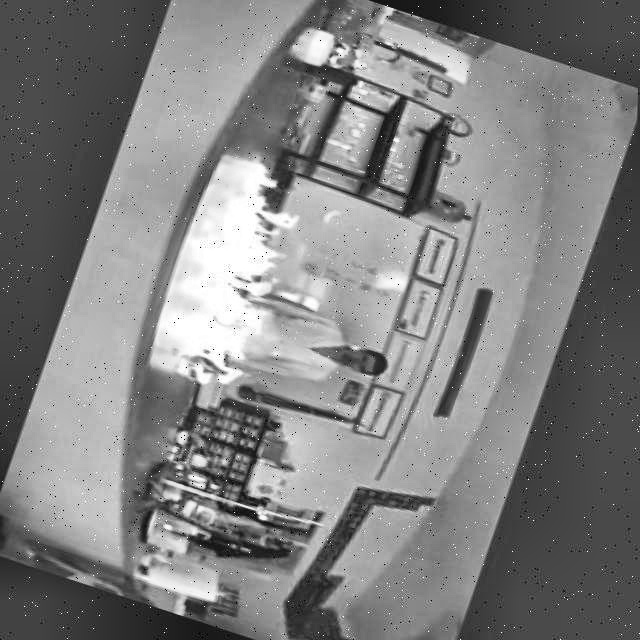Fire: (157, 151, 324, 401)
